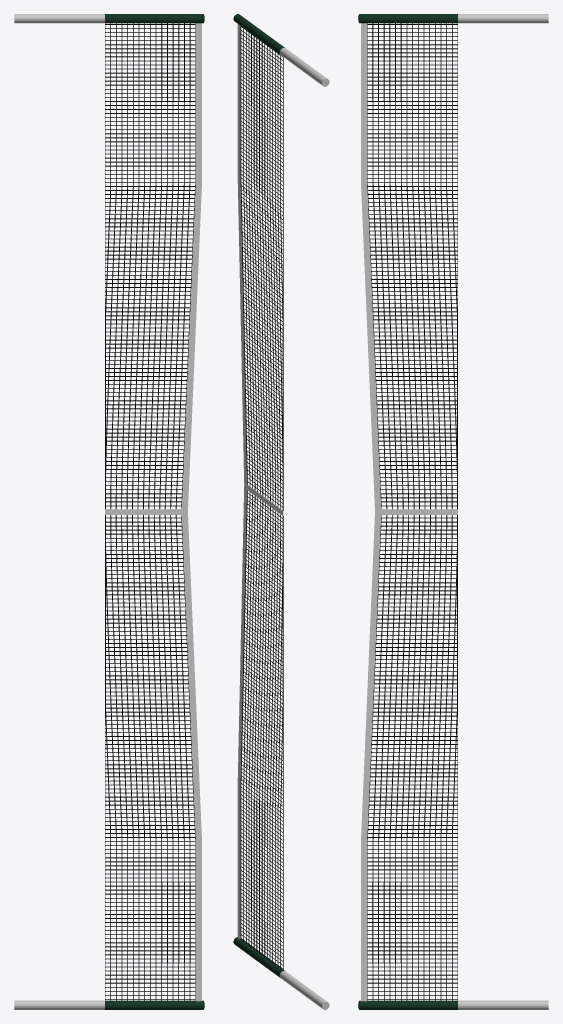
The model's file is volleyNet.obj.
The picture shows the model from 3 angles, left to right: view 1: azimuth 90°, elevation 25°; view 2: azimuth 210°, elevation 25°; view 3: azimuth 270°, elevation 25°; orthographic projection. The views are drawn at different scales.
Parts seen in each view (by area): view 1: Net_Plane.001, Post1_Cylinder.001, Post2_Cylinder.002, Post, Post.001; view 2: Net_Plane.001, Post.001, Post, Post1_Cylinder.001, Post2_Cylinder.002; view 3: Net_Plane.001, Post1_Cylinder.001, Post2_Cylinder.002, Post, Post.001.
Part boxes in pixels (x1,y1,x2,y2): Net_Plane.001: (105, 23, 201, 1001); Post1_Cylinder.001: (105, 14, 204, 23); Post2_Cylinder.002: (105, 1000, 204, 1009); Post: (14, 1000, 104, 1009); Post.001: (14, 14, 104, 23); Net_Plane.001: (237, 24, 283, 970); Post.001: (279, 47, 329, 86); Post: (279, 971, 329, 1009); Post1_Cylinder.001: (233, 14, 284, 54); Post2_Cylinder.002: (233, 937, 284, 977); Net_Plane.001: (361, 23, 457, 1001); Post1_Cylinder.001: (358, 14, 457, 23); Post2_Cylinder.002: (358, 1000, 457, 1009); Post: (458, 1000, 548, 1009); Post.001: (458, 14, 548, 23).
Bounding box in the file's own units: 0.1016 × 12.1 × 2.1.
